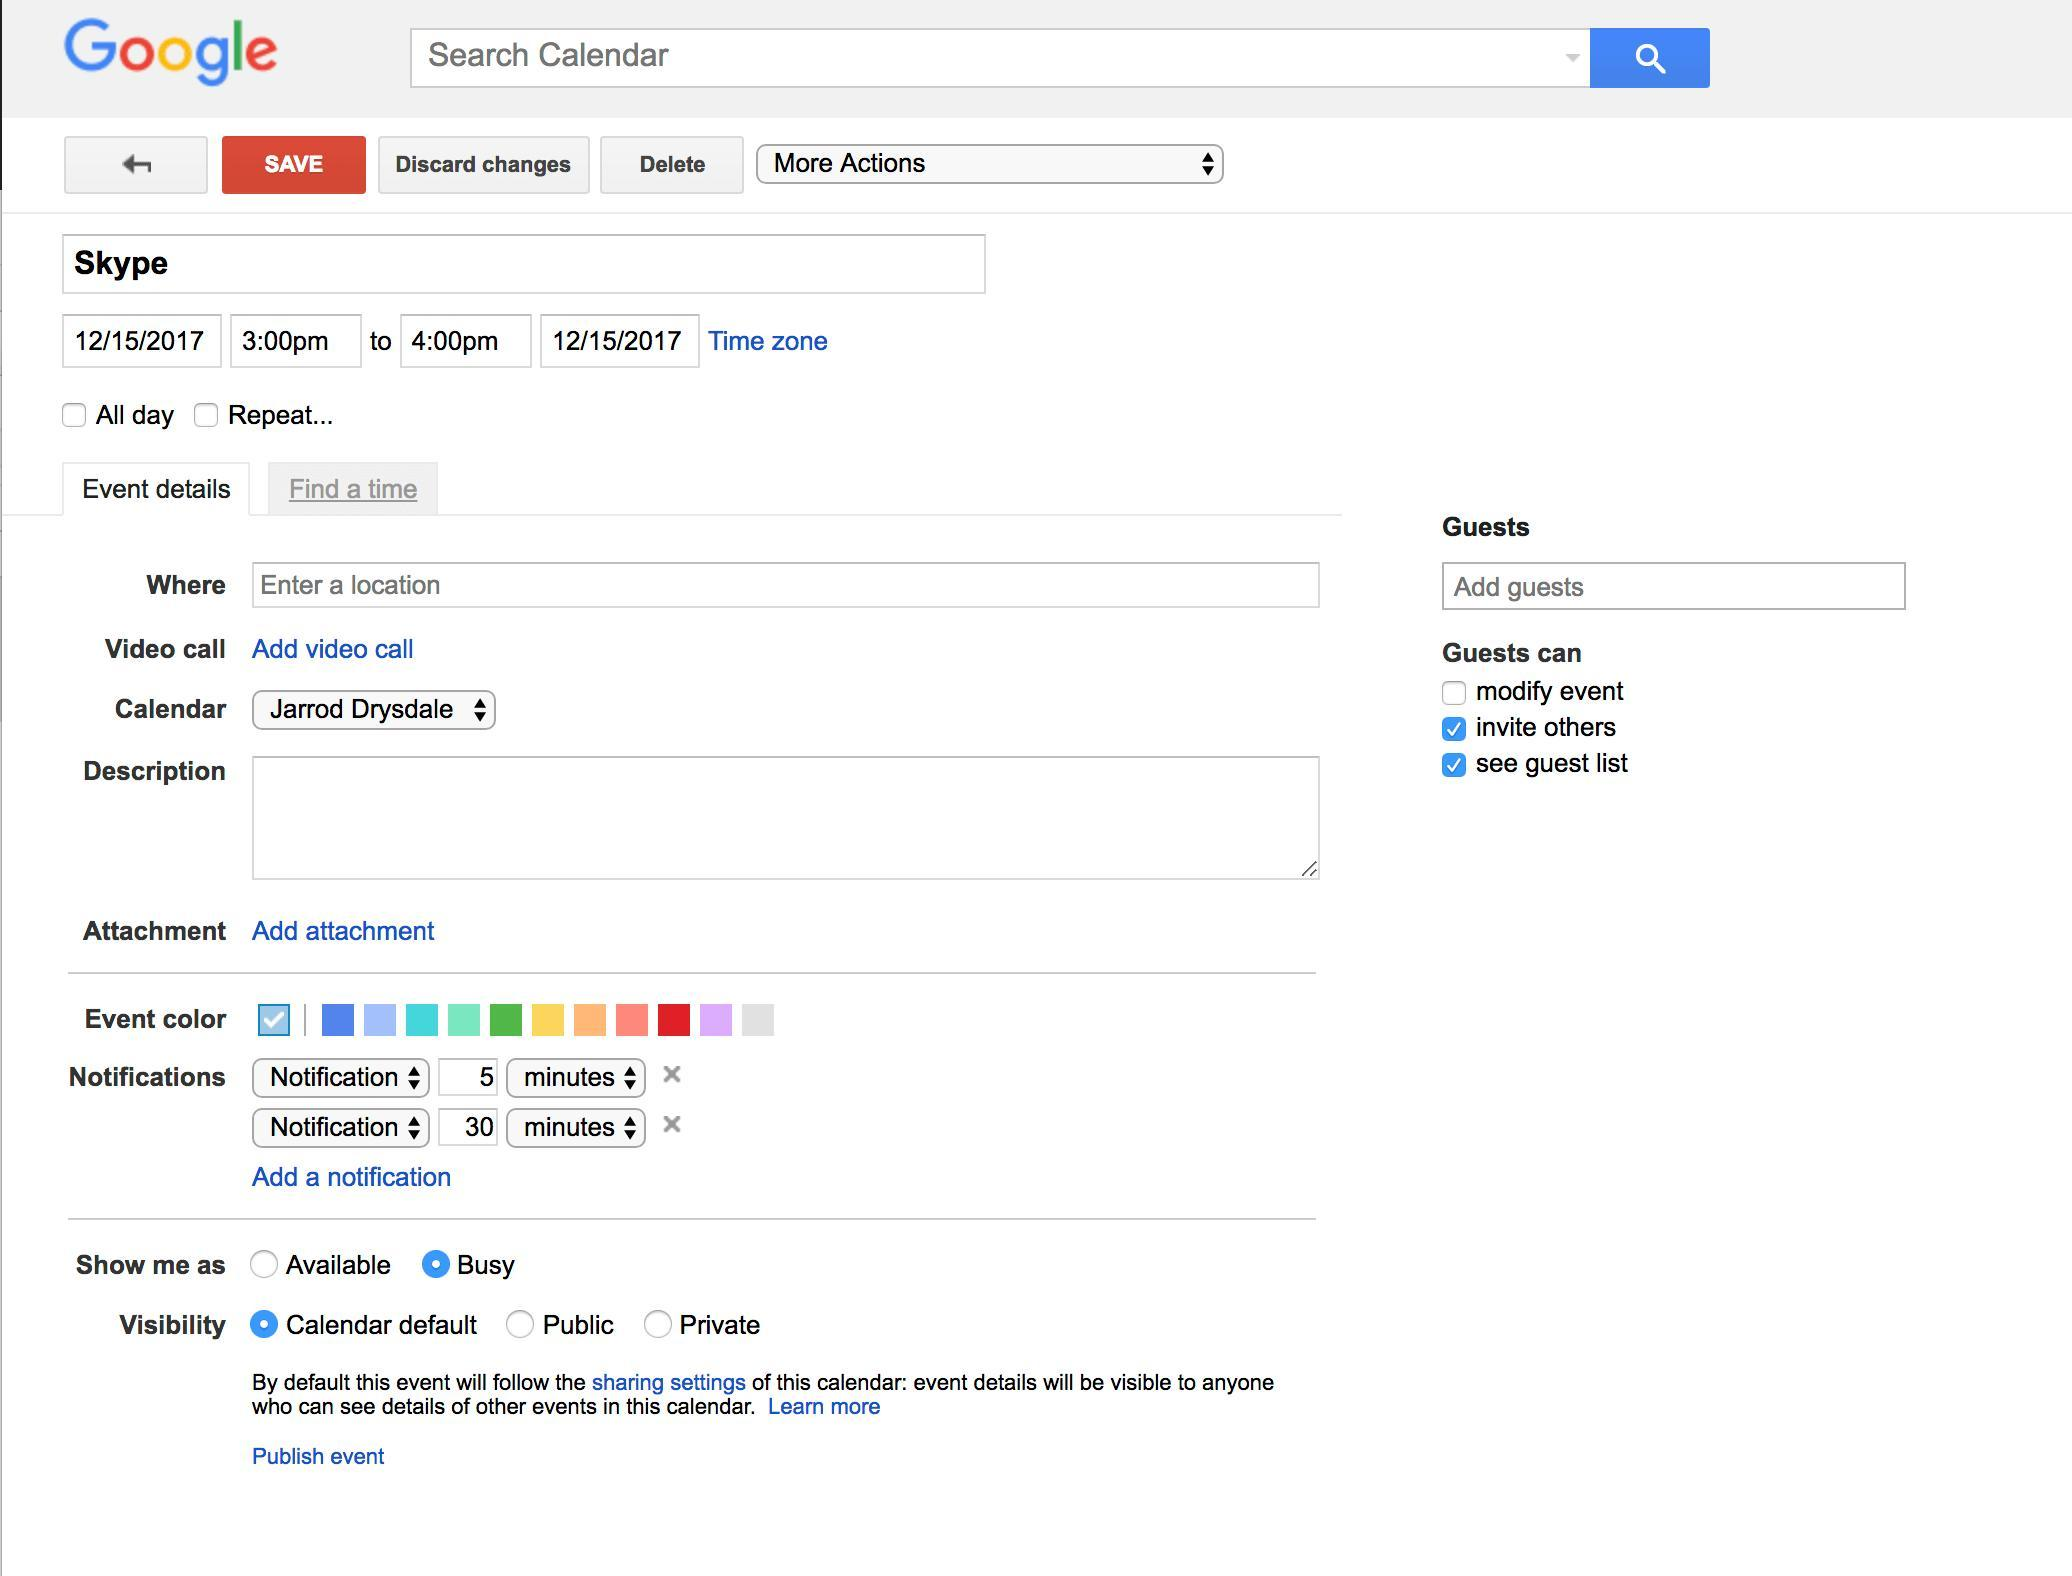button: (377, 137, 588, 194), (65, 464, 252, 521), (270, 462, 439, 520), (217, 134, 371, 195), (1587, 22, 1715, 94), (601, 137, 750, 192), (65, 137, 204, 192)
checkbox: (1432, 747, 1475, 786), (253, 1002, 295, 1041), (1432, 679, 1475, 712), (1433, 712, 1475, 745), (56, 401, 94, 434), (189, 401, 223, 434)
dropdown: (761, 147, 1225, 187), (252, 689, 496, 732), (252, 1111, 434, 1151), (255, 1059, 430, 1098), (506, 1059, 649, 1099), (505, 1111, 645, 1146)
input: (412, 26, 1589, 88), (61, 237, 990, 296), (253, 561, 1317, 611), (1443, 561, 1907, 609), (540, 316, 702, 372), (61, 315, 223, 368), (397, 311, 530, 368), (233, 315, 364, 369), (437, 1056, 500, 1099), (442, 1112, 500, 1147)
label: (61, 1242, 233, 1291), (71, 745, 233, 795), (281, 1305, 483, 1344), (70, 914, 242, 959), (60, 1058, 238, 1099), (99, 626, 233, 675), (101, 687, 242, 733), (76, 1003, 237, 1036), (136, 560, 237, 611), (1475, 714, 1632, 743), (1436, 508, 1539, 551), (1473, 753, 1637, 780), (118, 1309, 228, 1343), (1476, 684, 1632, 705), (674, 1309, 770, 1344), (286, 1253, 394, 1281), (227, 402, 331, 430), (540, 1309, 621, 1343), (98, 402, 179, 432), (458, 1247, 520, 1281)
radio: (410, 1245, 460, 1286), (639, 1308, 679, 1344), (247, 1303, 281, 1343), (501, 1309, 540, 1343), (252, 1243, 281, 1285)
